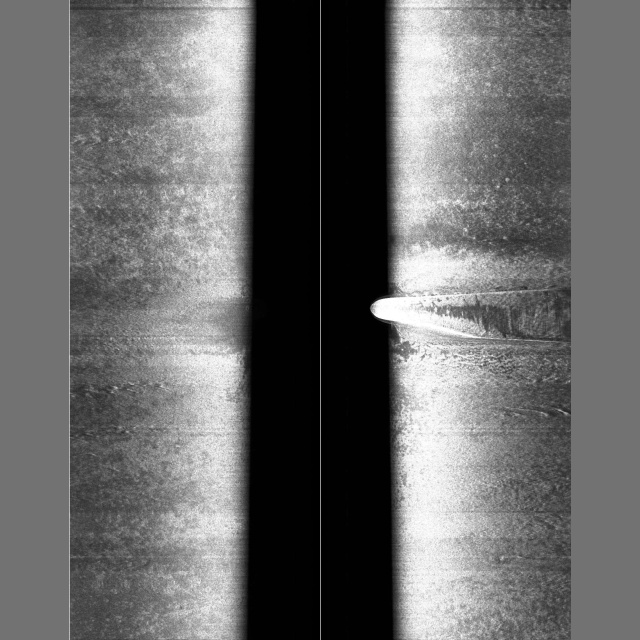Shipwreck: (370, 287, 571, 343)
